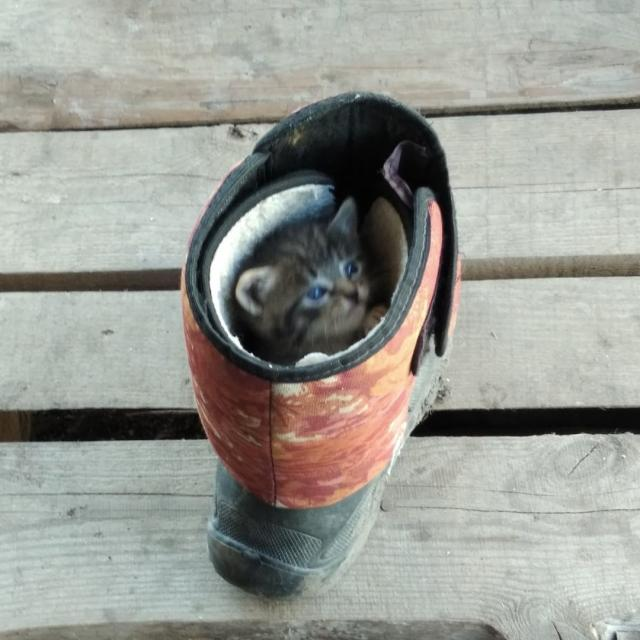Cats: (216, 194, 396, 360)
